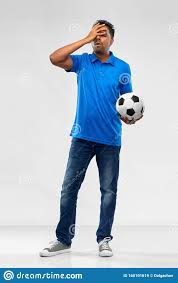Indian_Male: (92, 21, 118, 54)
